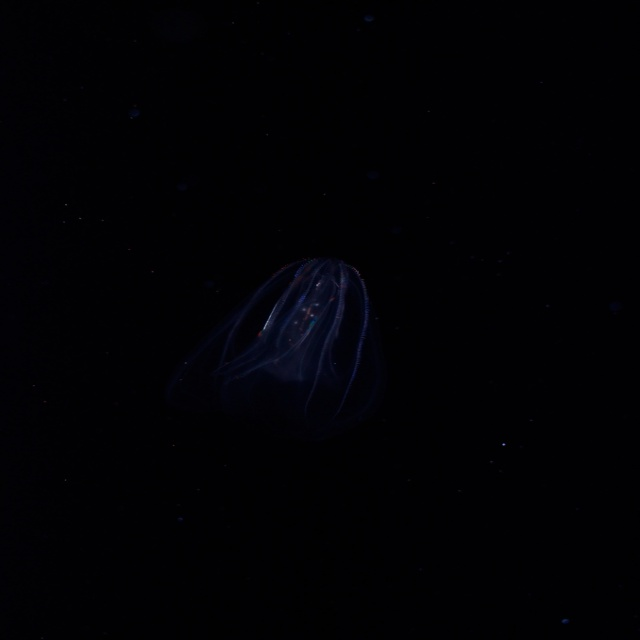Jellyfish: (219, 256, 369, 416)
